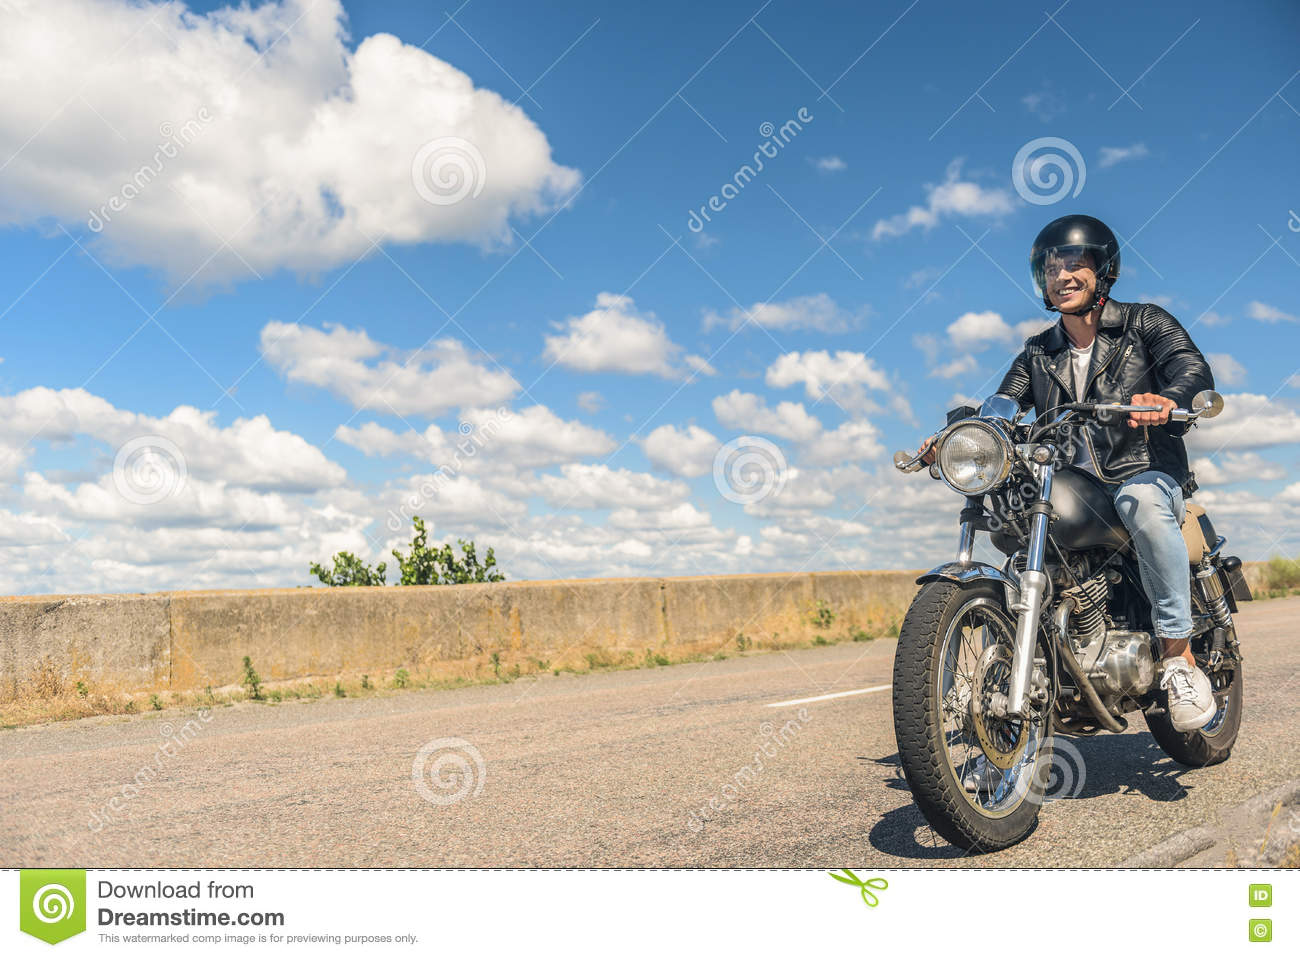helmet: (1024, 204, 1125, 272)
